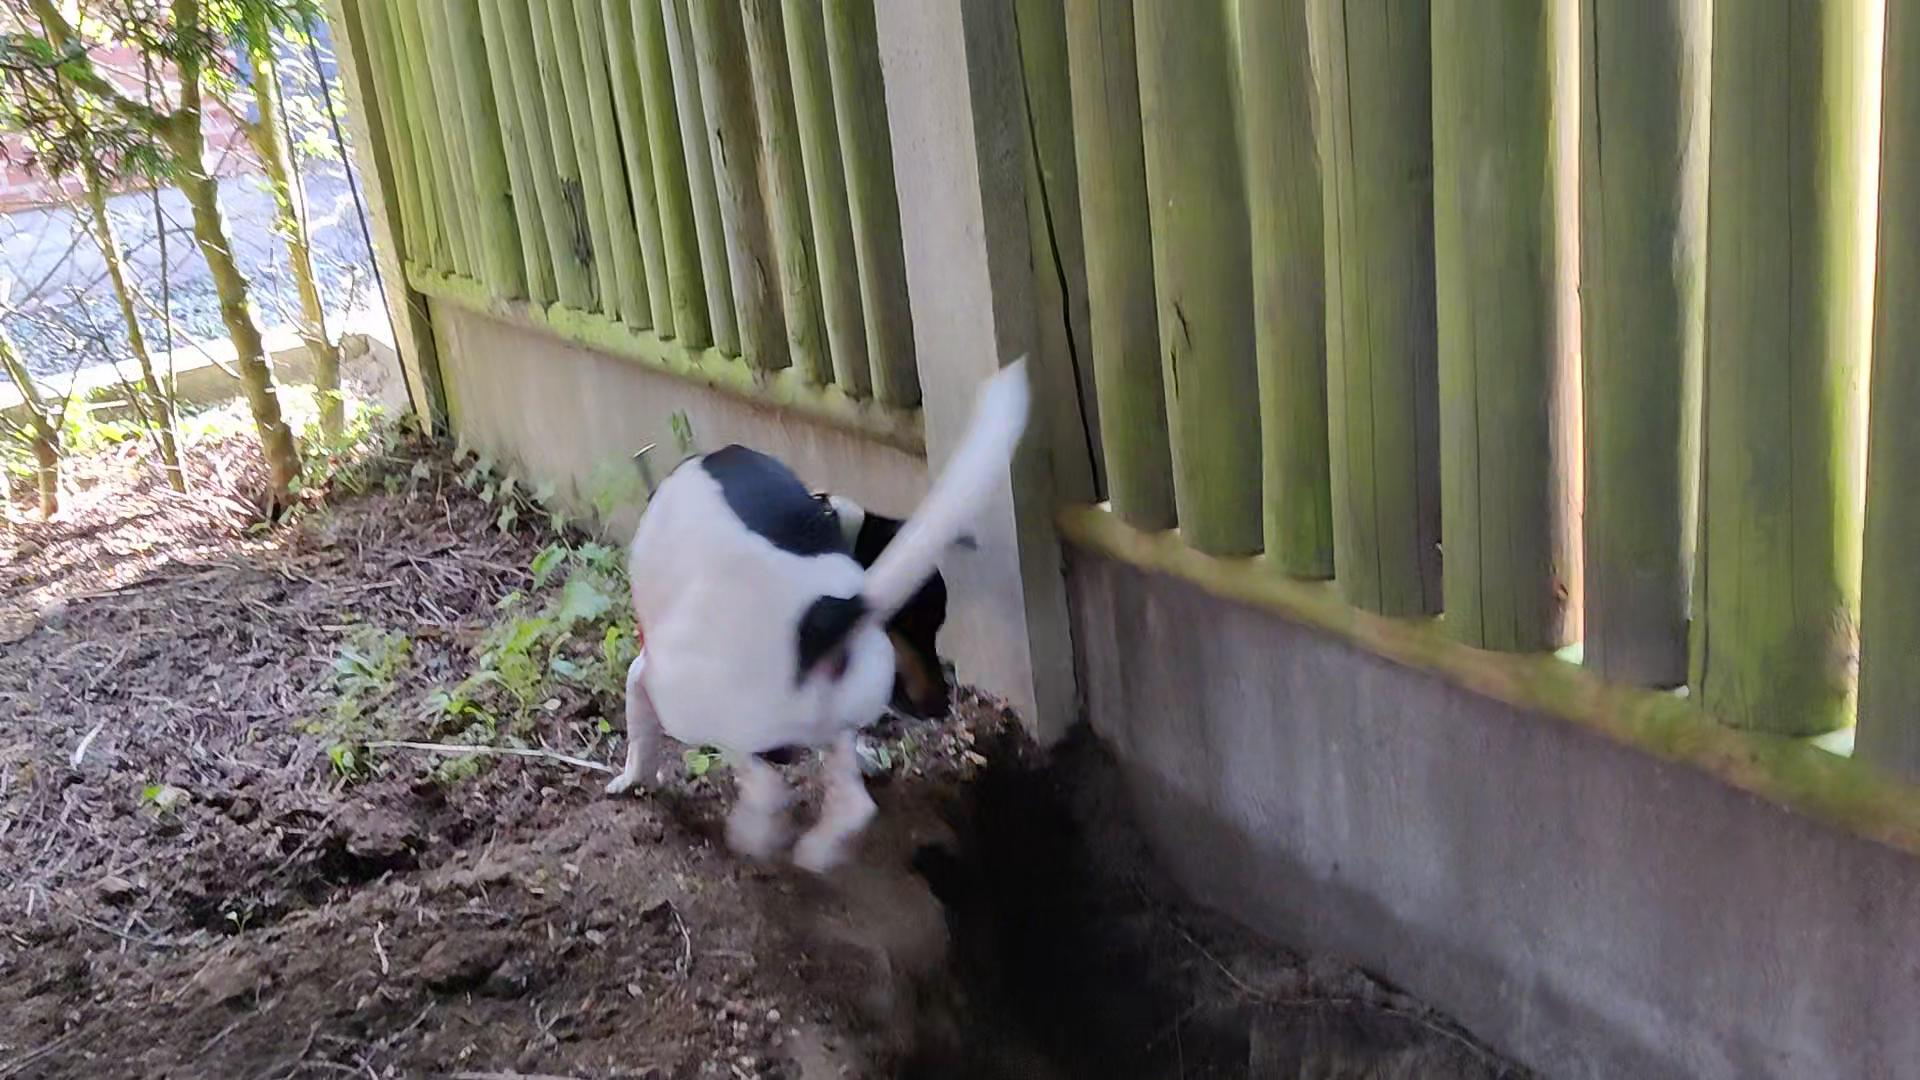Dog: (575, 338, 1048, 887)
